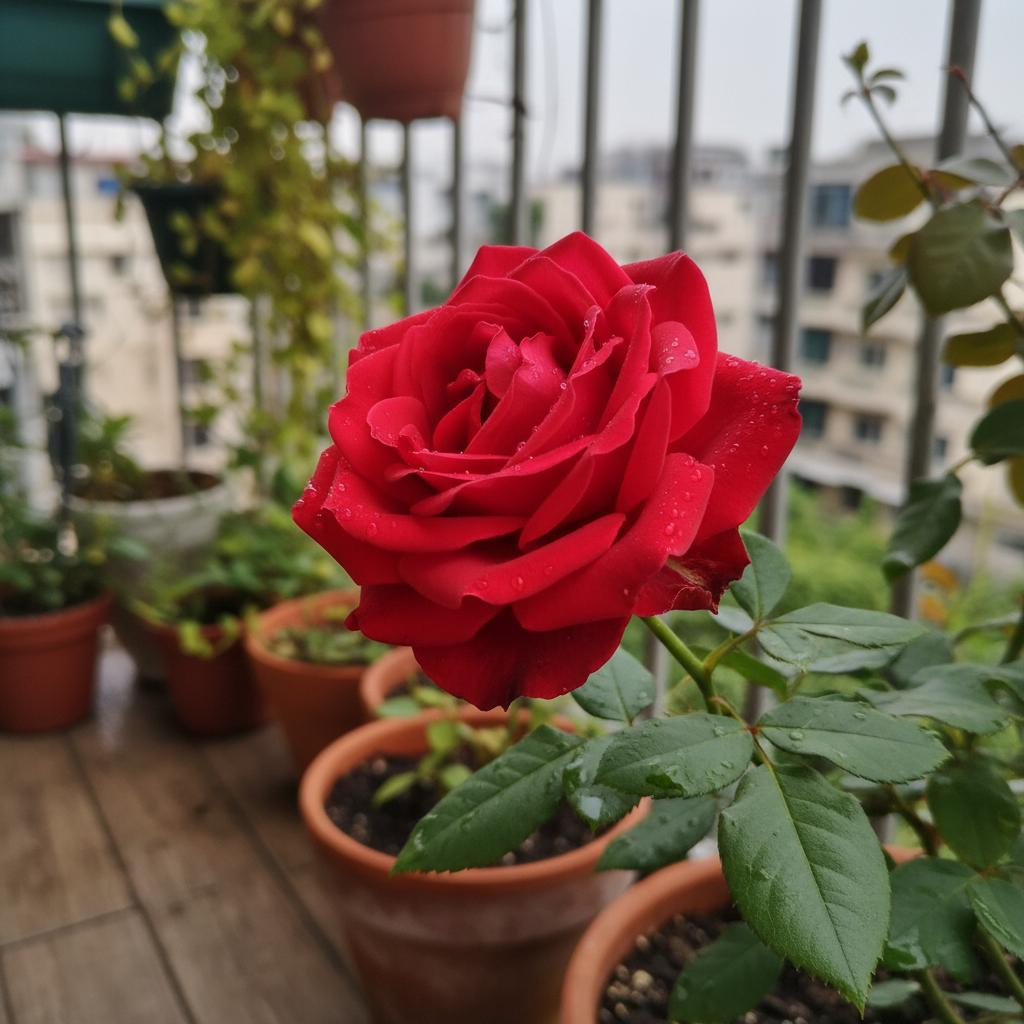rose: (289, 228, 804, 711)
